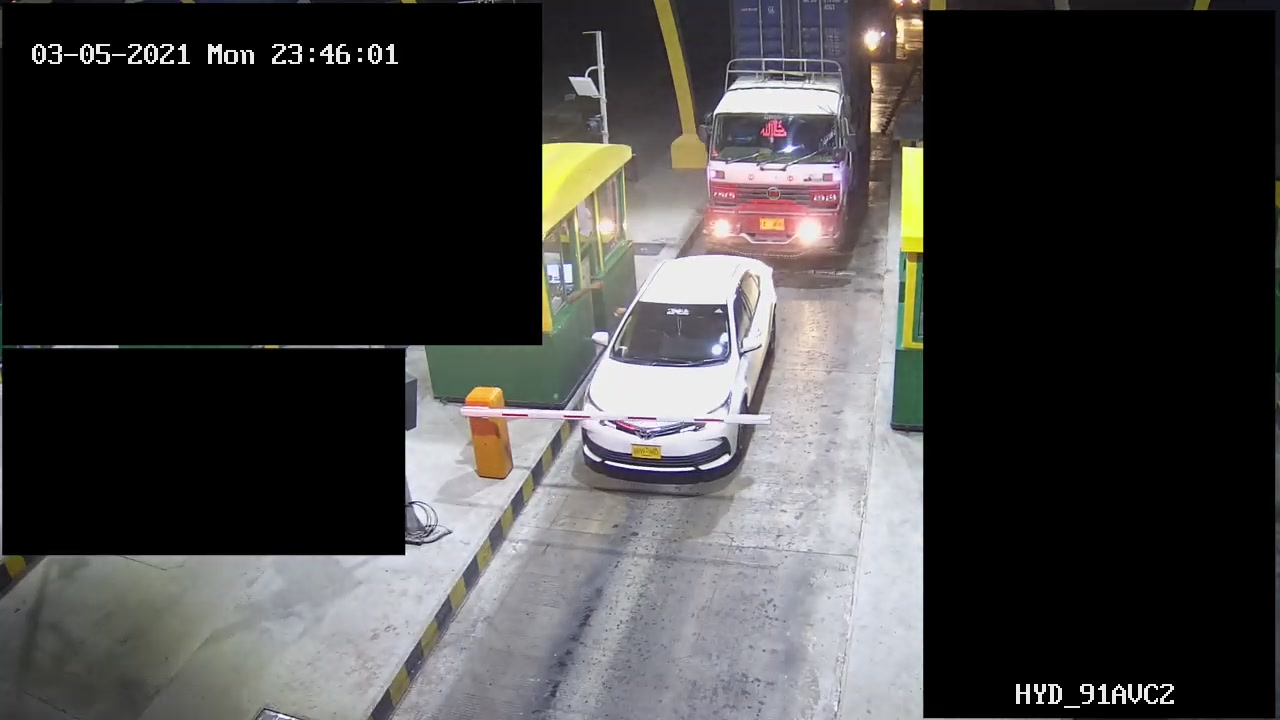F1: (574, 254, 785, 488)
